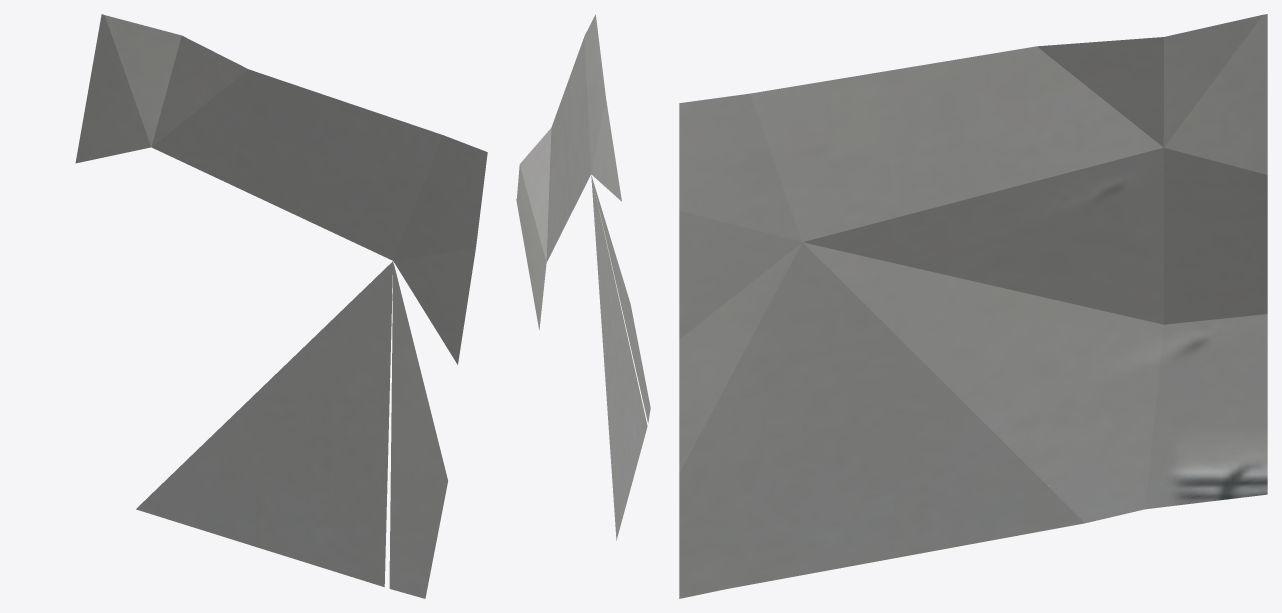
3 views of the same model, side by side, from view 1: azimuth 30°, elevation 25°; view 2: azimuth 150°, elevation 25°; view 3: azimuth 270°, elevation 25° (orthographic). The views are drawn at different scales.
Size of the model in its own units: 0.4779 by 0.8373 by 0.8373.
3 materials, 3 textured.
